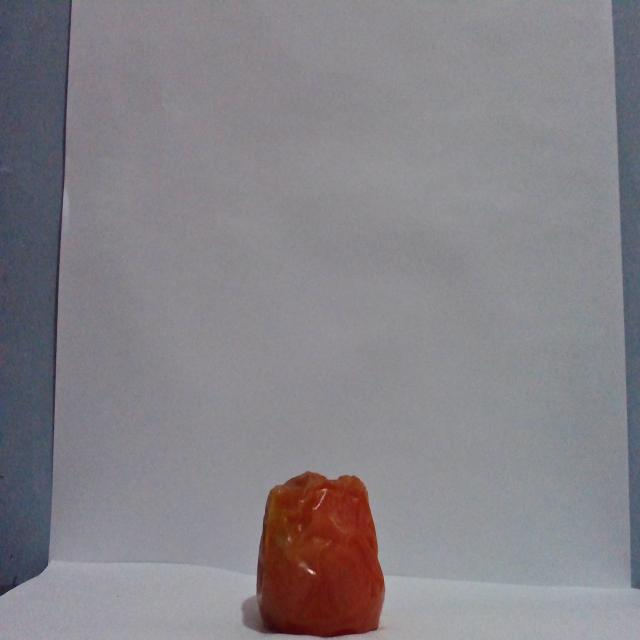Red: (254, 469, 385, 636)
